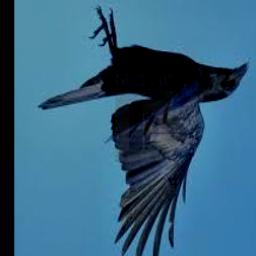Crow: (39, 7, 250, 256)
